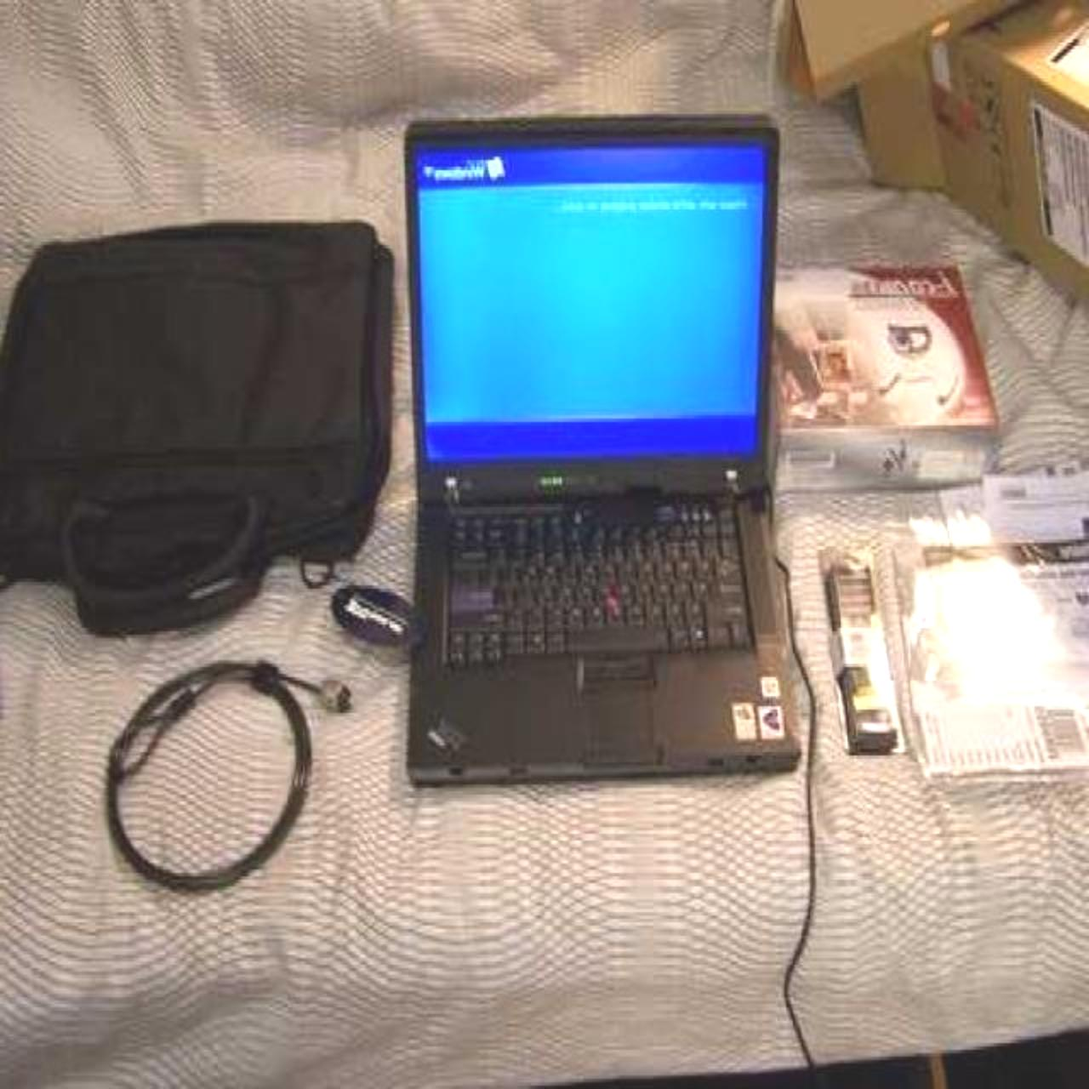laptop: (400, 131, 791, 703)
